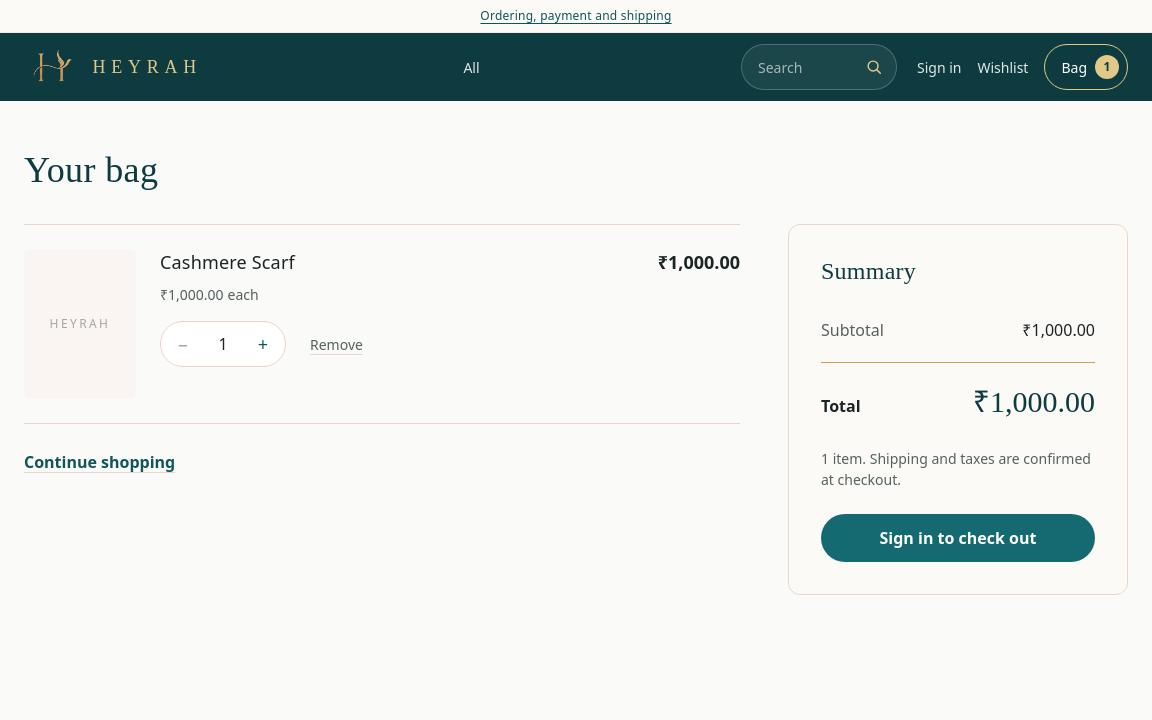
cart page › increases quantity by sending only the new quantity
Click the button named "Increase quantity of Cashmere Scarf". click: (263, 344)
box: [241,322,285,366]
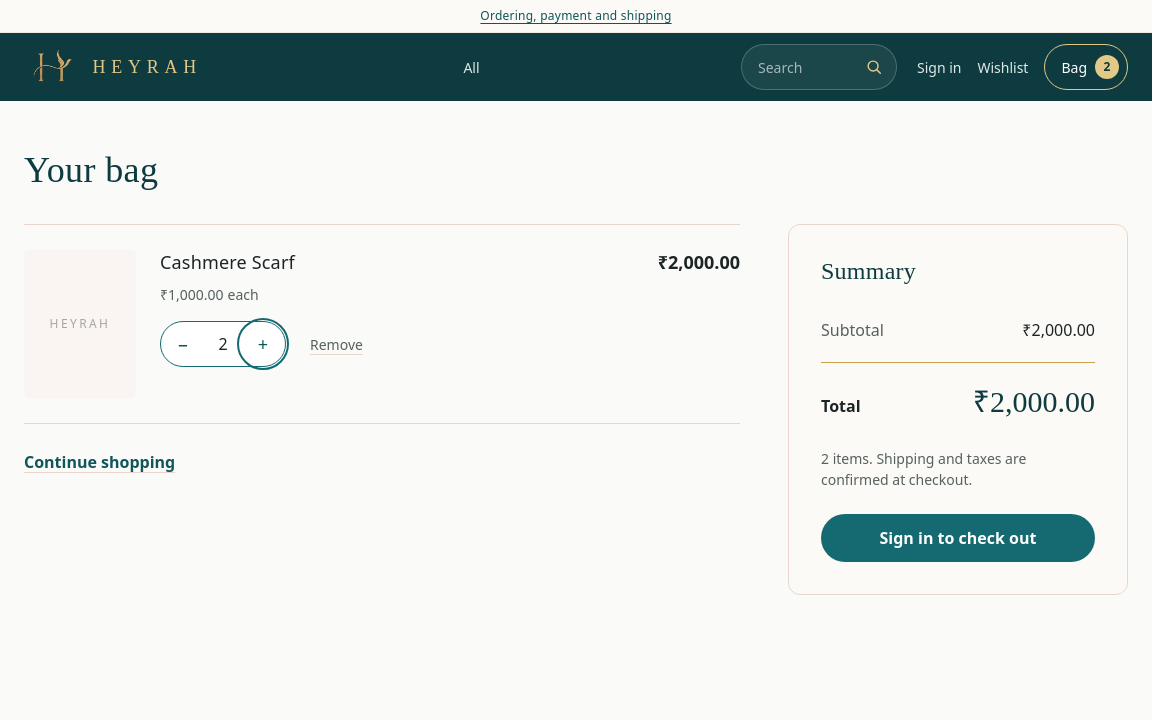
Now the field showing "2" is shown, box [205,322,241,366]
Now the text with test id "bag-total" reads "₹2,000.00", box [973,385,1095,418]
